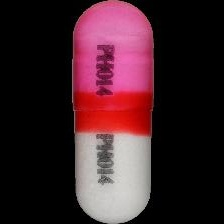68788-9687: (0, 0, 224, 224)
